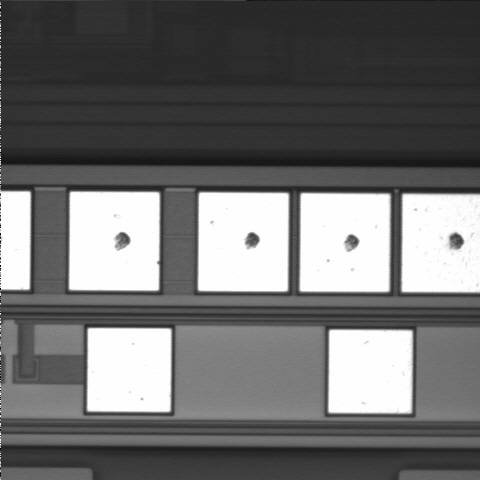pad: (69, 192, 160, 291), (198, 193, 289, 291), (300, 193, 390, 292), (87, 328, 171, 412), (329, 330, 412, 413)
